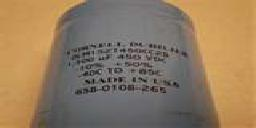Electrolytic-Capacitor: (32, 1, 226, 128)
